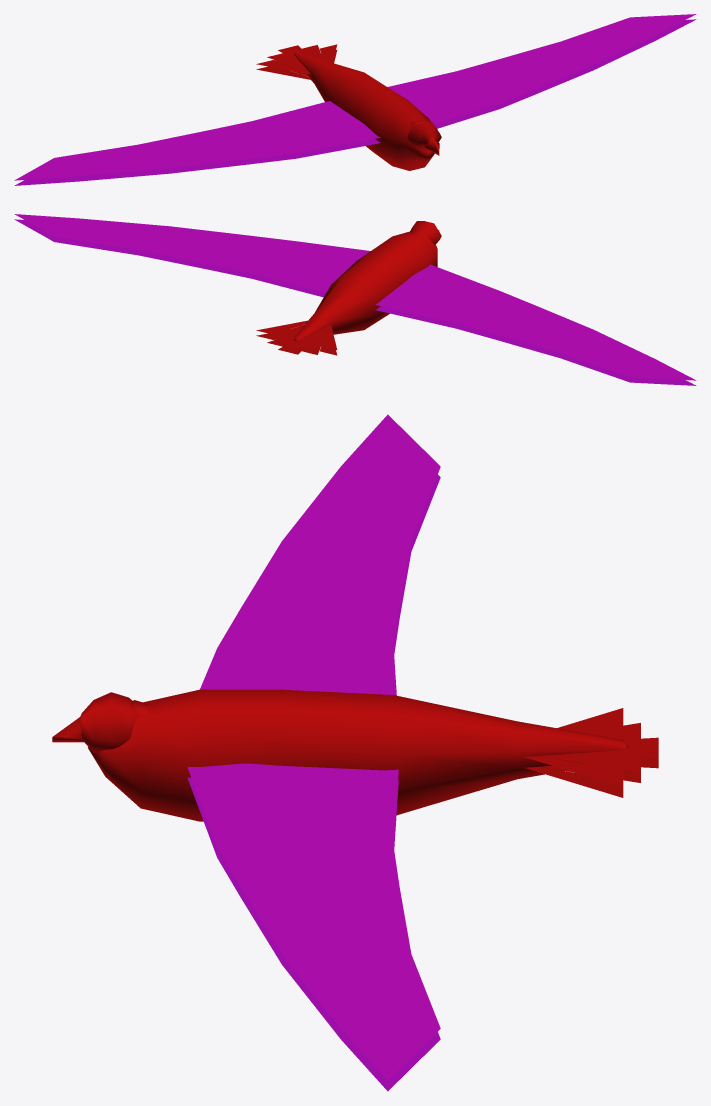
File: kittiwake.glb
3 views of the same model, one above another, from view 1: azimuth 30°, elevation 25°; view 2: azimuth 150°, elevation 25°; view 3: azimuth 270°, elevation 25° (orthographic). The views are drawn at different scales.
Parts seen in each view (by area): view 1: bird; view 2: bird; view 3: bird.
Part boxes in pixels (bbox=[...]): bird: bbox=[14, 14, 696, 185]; bird: bbox=[14, 214, 696, 385]; bird: bbox=[52, 414, 658, 1091].
Size of the model in its own units: 1.05 by 0.082 by 0.4023.
